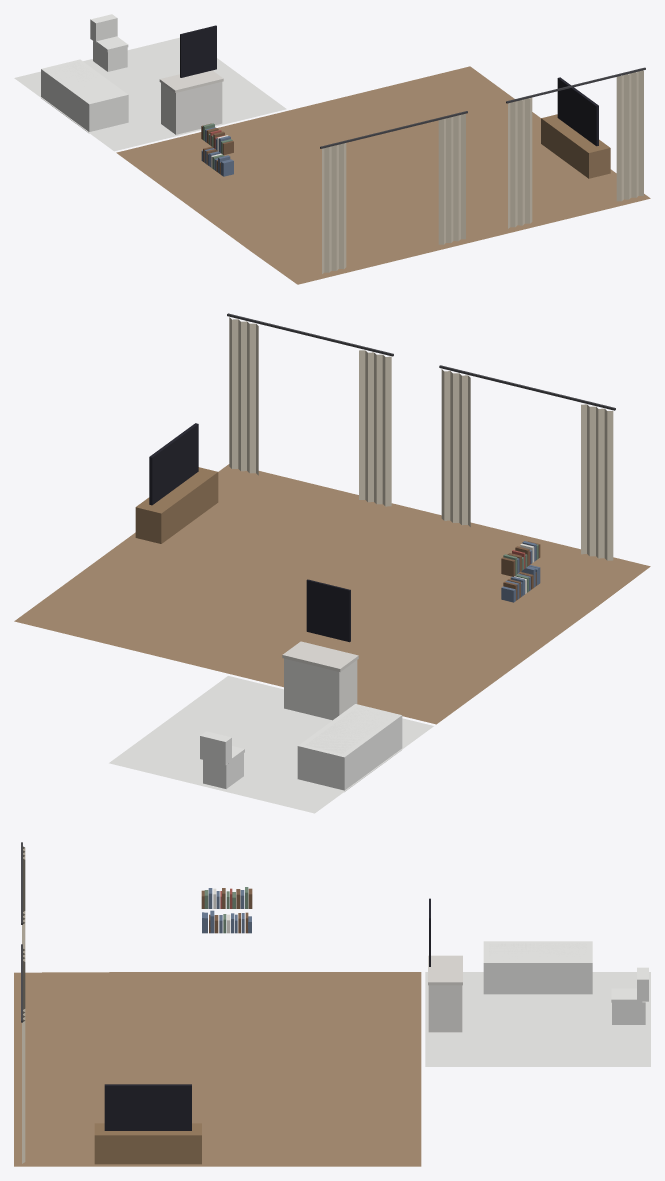
File: fine-s1.glb
3 views of the same model, one above another, from view 1: azimuth 30°, elevation 25°; view 2: azimuth 150°, elevation 25°; view 3: azimuth 270°, elevation 25° (orthographic). The views are drawn at different scales.
Parts seen in each view (by area): view 1: soft-s1, vanity.000, bathtub.000, tv-console.000, toilet.000; view 2: soft-s1, vanity.000, bathtub.000, tv-console.000, toilet.000; view 3: soft-s1, tv-console.000, bathtub.000, vanity.000, toilet.000.
Part boxes in pixels (x1=…): soft-s1: x1=14, y1=37, x2=650, y2=284; vanity.000: x1=159, y1=25, x2=223, y2=134; bathtub.000: x1=41, y1=59, x2=128, y2=132; tv-console.000: x1=541, y1=77, x2=610, y2=178; toilet.000: x1=90, y1=14, x2=128, y2=71; soft-s1: x1=14, y1=313, x2=650, y2=813; vanity.000: x1=282, y1=579, x2=358, y2=720; bathtub.000: x1=297, y1=704, x2=402, y2=791; tv-console.000: x1=135, y1=423, x2=218, y2=543; toilet.000: x1=200, y1=731, x2=244, y2=788; soft-s1: x1=14, y1=842, x2=650, y2=1166; tv-console.000: x1=94, y1=1084, x2=201, y2=1164; bathtub.000: x1=483, y1=941, x2=592, y2=994; vanity.000: x1=428, y1=898, x2=462, y2=1032; toilet.000: x1=611, y1=967, x2=648, y2=1024.
Size of the model in its own units: 6.86 by 2.41 by 9.48.
